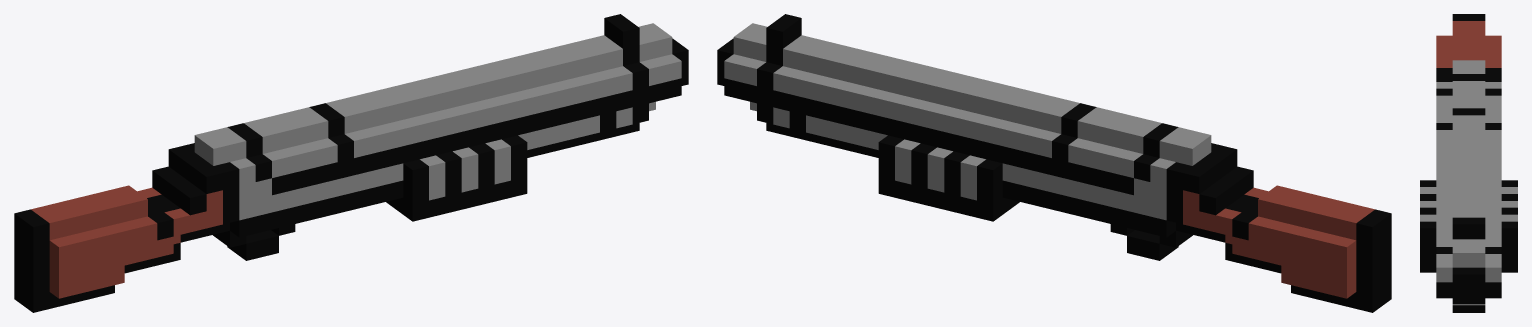
File: shotgun.fbx
3 renders of one model, left to right at view 1: azimuth 30°, elevation 25°; view 2: azimuth 150°, elevation 25°; view 3: azimuth 270°, elevation 25°, orthographic. The views are drawn at different scales.
Parts seen in each view (by area): view 1: Cube.591; view 2: Cube.591; view 3: Cube.591.
Part boxes in pixels (x1,y1,x2,y2): Cube.591: (14,14,688,312); Cube.591: (717,14,1391,312); Cube.591: (1420,14,1517,312).
Bounding box in the file's own units: 604 × 121 × 90.64.
